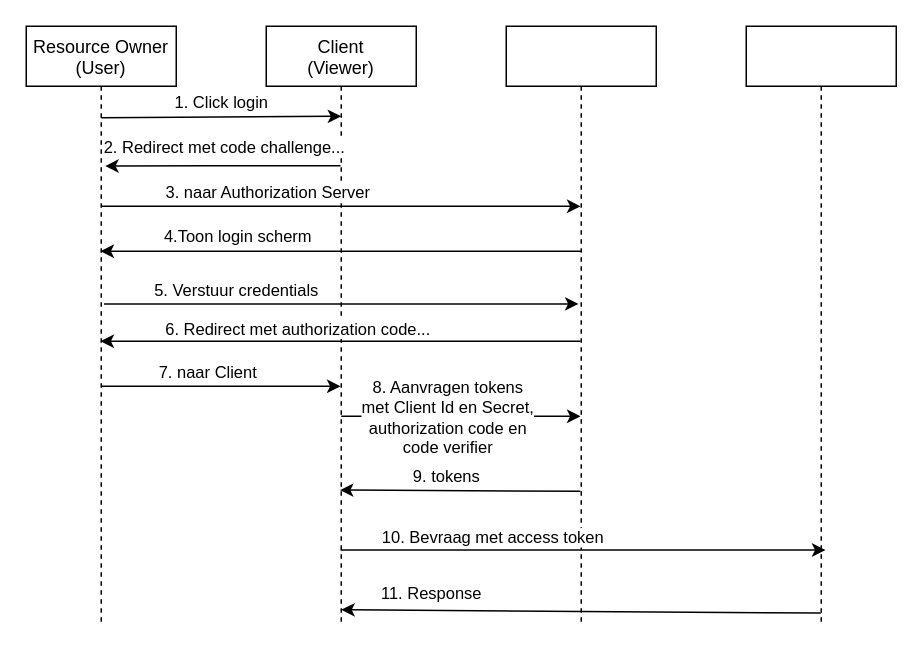
Image size: 923x653. Some labels were removed from this diagram. The shapes that lost their labels are listed below. From the top down, each one's box as (x1, y1, x2, y2) in pixels, then its label:
(505, 25, 656, 626): Authorization Server
(745, 25, 896, 626): Resource (API)
